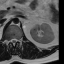CCS_normal: (13, 36, 15, 48)
LFS_normal: (17, 37, 19, 43)
LLS_normal: (15, 36, 17, 43)
RFS_stenosis: (8, 37, 10, 45)
RLS_normal: (10, 37, 13, 44)
